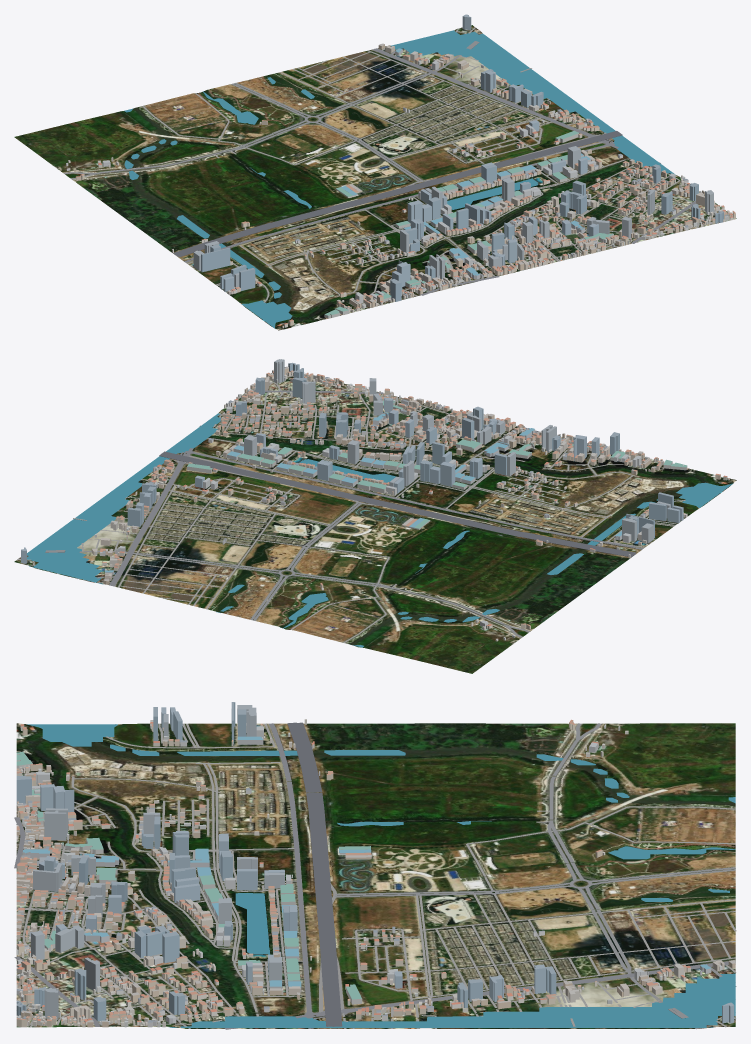
3 views of the same model, one above another, from view 1: azimuth 30°, elevation 25°; view 2: azimuth 150°, elevation 25°; view 3: azimuth 270°, elevation 25° (orthographic). The views are drawn at different scales.
Visible parts, largest first — view 1: TERRAIN, ROAD_METRO, BLDG_MODERN_TOWER, WATER, BLDG_SHOPHOUSE, BLDG_VILLA_APARTMENT, BLDG_TUBE_HOUSE, BLDG_INDUSTRIAL_PORT; view 2: TERRAIN, ROAD_METRO, BLDG_MODERN_TOWER, WATER, BLDG_SHOPHOUSE, BLDG_VILLA_APARTMENT, BLDG_INDUSTRIAL_PORT, BLDG_TUBE_HOUSE; view 3: TERRAIN, ROAD_METRO, BLDG_MODERN_TOWER, WATER, BLDG_SHOPHOUSE, BLDG_VILLA_APARTMENT, BLDG_INDUSTRIAL_PORT, BLDG_TUBE_HOUSE.
Part boxes in pixels (bbox=[...]): TERRAIN: bbox=[14, 25, 736, 330]; ROAD_METRO: bbox=[64, 27, 728, 311]; BLDG_MODERN_TOWER: bbox=[193, 14, 723, 301]; WATER: bbox=[124, 30, 675, 328]; BLDG_SHOPHOUSE: bbox=[76, 43, 735, 325]; BLDG_VILLA_APARTMENT: bbox=[98, 45, 733, 327]; BLDG_TUBE_HOUSE: bbox=[66, 47, 731, 328]; BLDG_INDUSTRIAL_PORT: bbox=[324, 48, 613, 318]; TERRAIN: bbox=[14, 374, 736, 673]; ROAD_METRO: bbox=[17, 375, 708, 642]; BLDG_MODERN_TOWER: bbox=[21, 359, 683, 563]; WATER: bbox=[27, 413, 732, 647]; BLDG_SHOPHOUSE: bbox=[100, 366, 720, 629]; BLDG_VILLA_APARTMENT: bbox=[91, 371, 727, 628]; BLDG_INDUSTRIAL_PORT: bbox=[105, 400, 687, 575]; BLDG_TUBE_HOUSE: bbox=[94, 367, 729, 641]; TERRAIN: bbox=[16, 723, 735, 1028]; ROAD_METRO: bbox=[14, 722, 736, 1029]; BLDG_MODERN_TOWER: bbox=[16, 702, 734, 1023]; WATER: bbox=[27, 724, 735, 1027]; BLDG_SHOPHOUSE: bbox=[16, 719, 735, 1027]; BLDG_VILLA_APARTMENT: bbox=[16, 722, 724, 1027]; BLDG_INDUSTRIAL_PORT: bbox=[16, 736, 711, 1004]; BLDG_TUBE_HOUSE: bbox=[16, 719, 722, 1027].
Size of the model in its own units: 2009 by 91.16 by 2011.
Materials: 8 (1 with a texture image).
